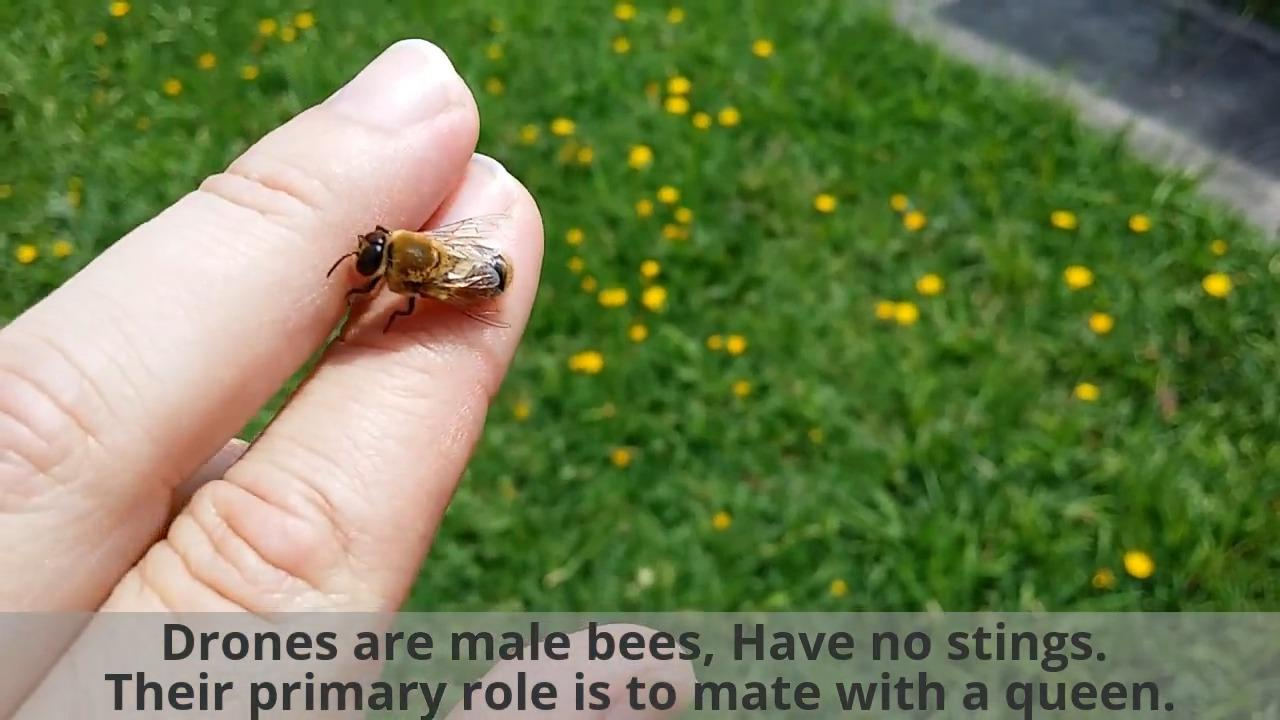drone: (356, 232, 512, 295)
